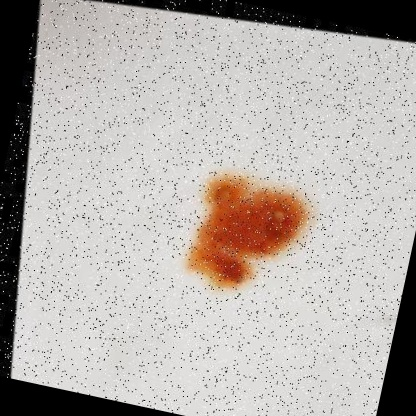kimchi: (179, 166, 316, 312)
